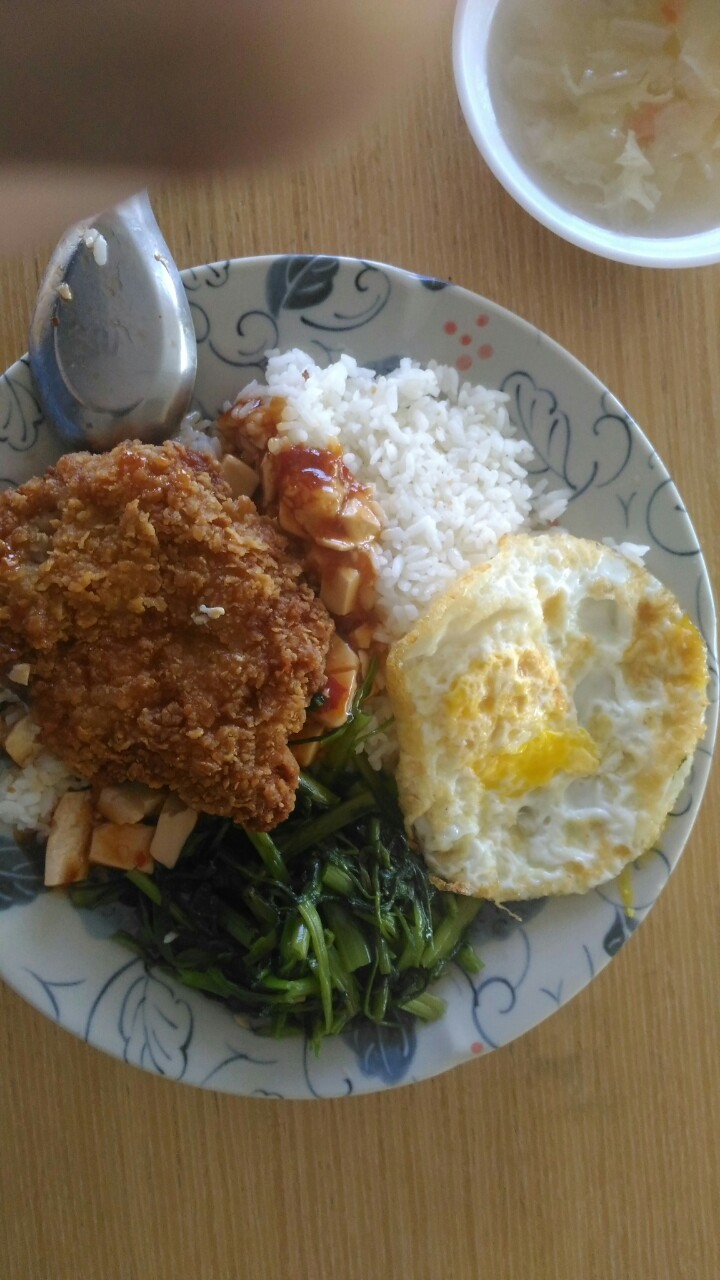fried_chicken: (1, 447, 336, 817)
fried_eggs: (379, 536, 708, 900)
rice: (284, 361, 523, 556)
water_spinach: (116, 786, 472, 1036)
